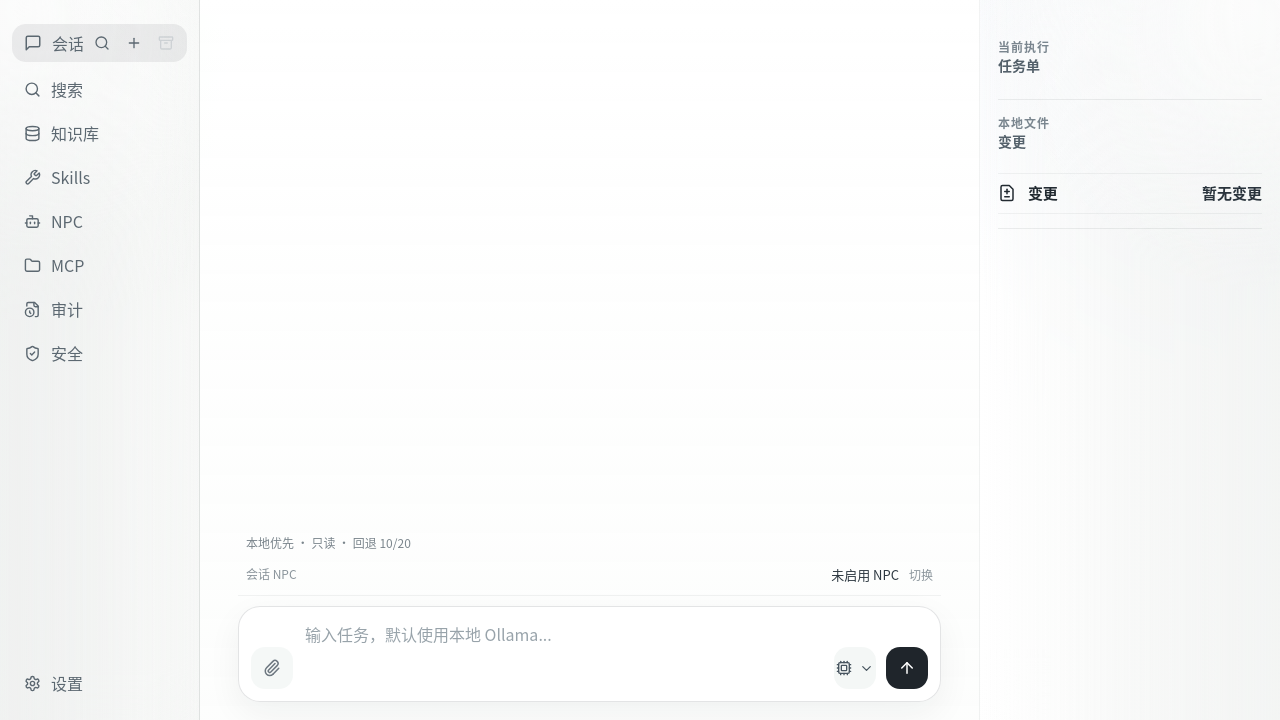
App › keeps using the conversation NPC after switching the NPC workspace editor to another card
Click the button with aria-label "会话 NPC" at (882, 574), box x1=831 y1=565 x2=933 y2=584
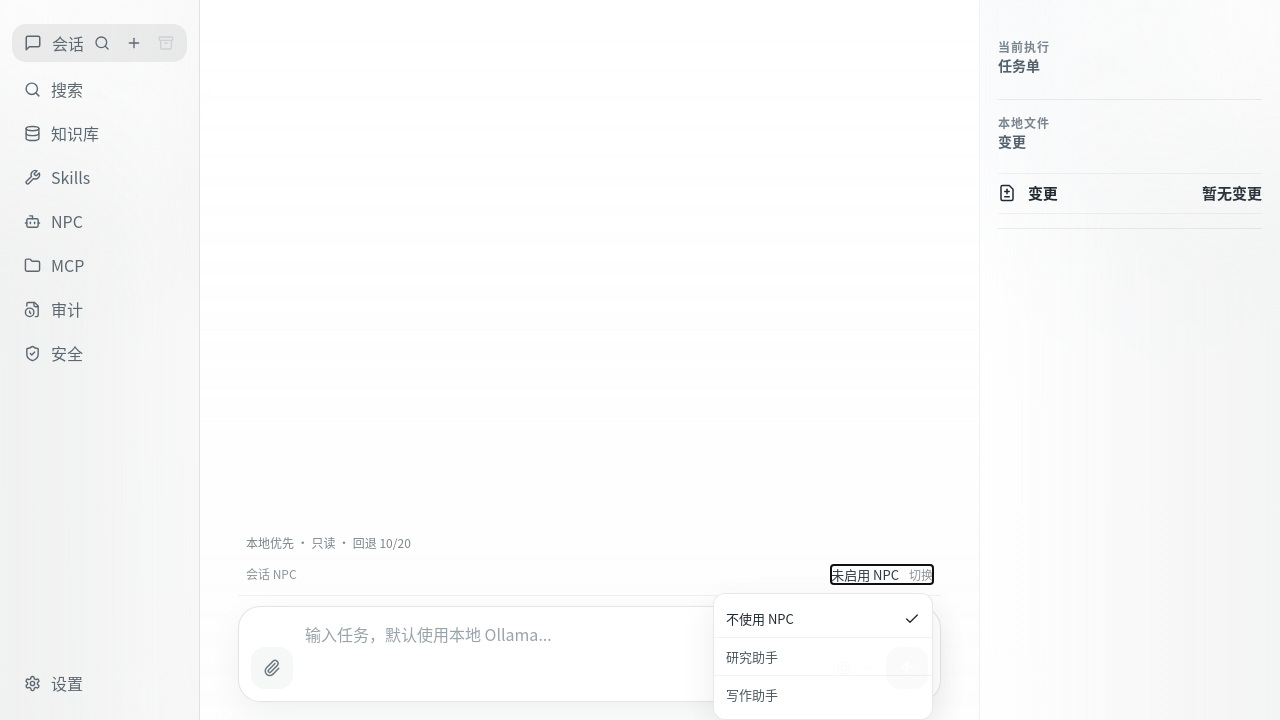
Click the menu item "研究助手" at (823, 656), box x1=714 y1=637 x2=932 y2=675
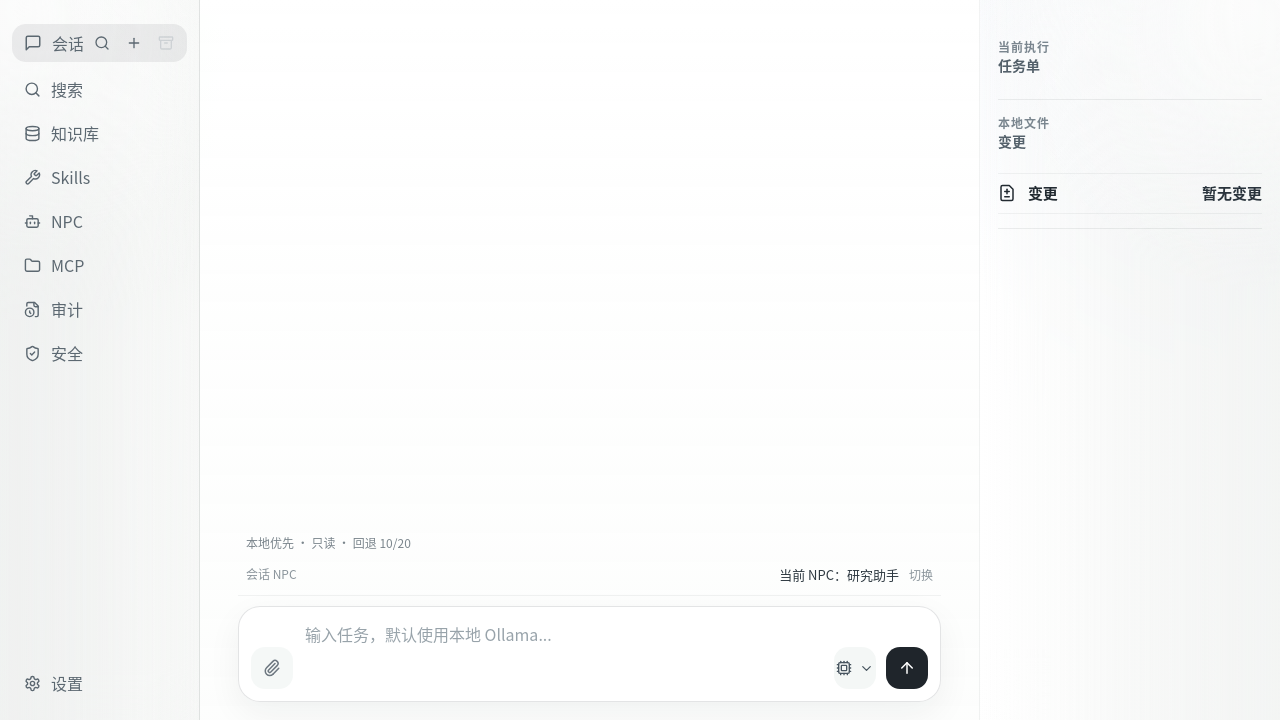
Click the button "NPC" at (100, 221), box x1=12 y1=202 x2=187 y2=240
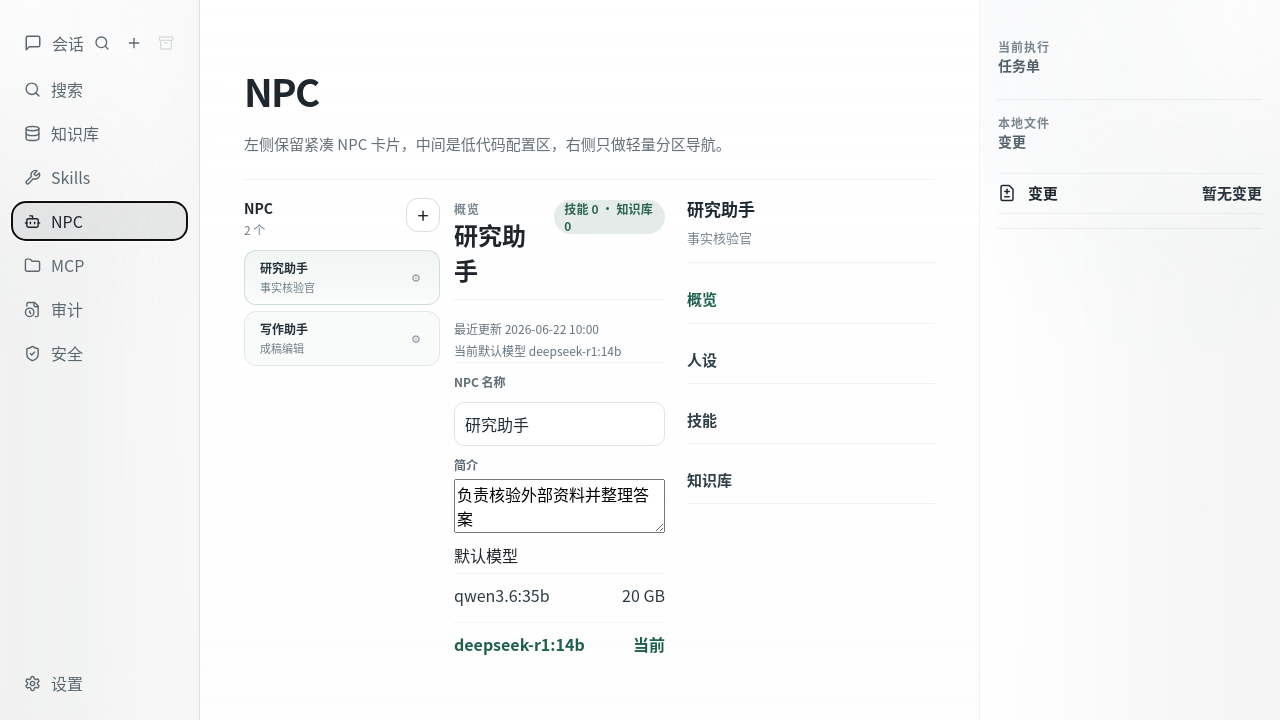
Click the button "写作助手 成稿编辑" at (325, 338), box x1=254 y1=319 x2=396 y2=358
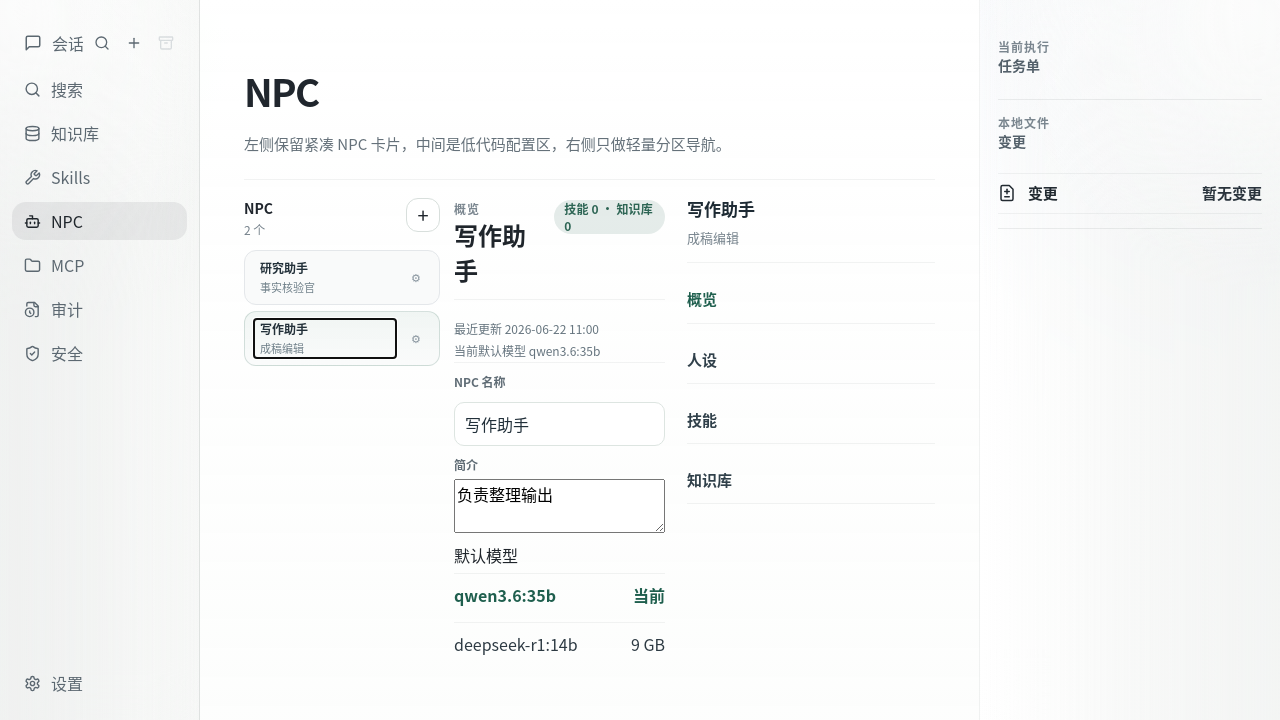
Click the button "会话" at (54, 43), box x1=24 y1=31 x2=83 y2=55
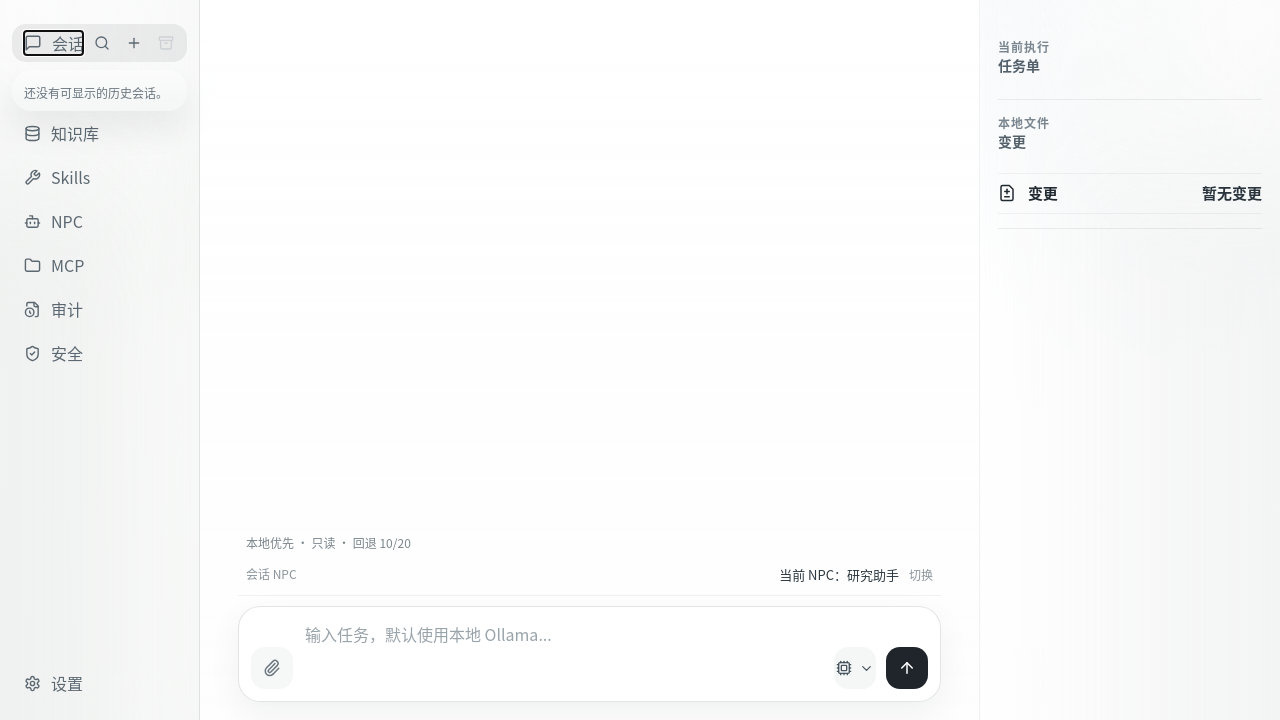
Result: the text "当前 NPC：研究助手" is shown at x1=779 y1=565 x2=899 y2=584
Type "继续整理" into the text box labelled "输入任务" at (562, 654), box x1=303 y1=619 x2=822 y2=689
Click the button named "发送" at (907, 668), box x1=886 y1=647 x2=928 y2=689
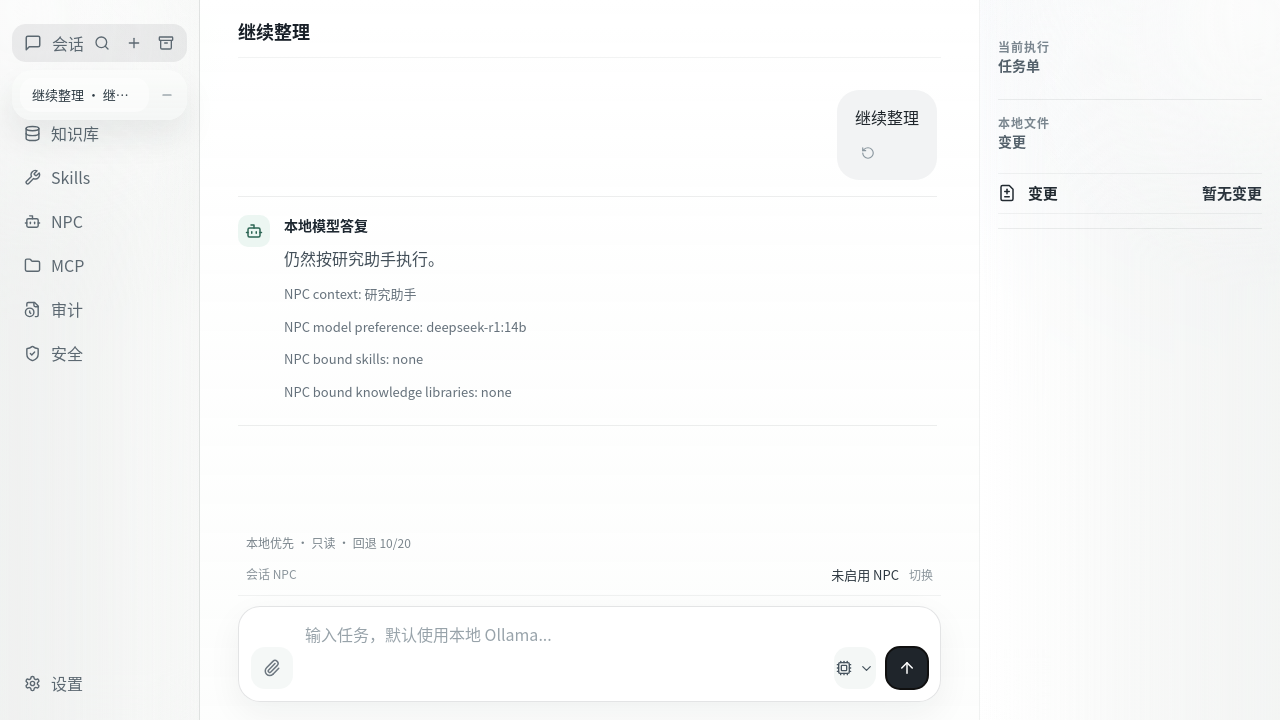
Result: the text "仍然按研究助手执行。" is shown at x1=284 y1=246 x2=444 y2=270
